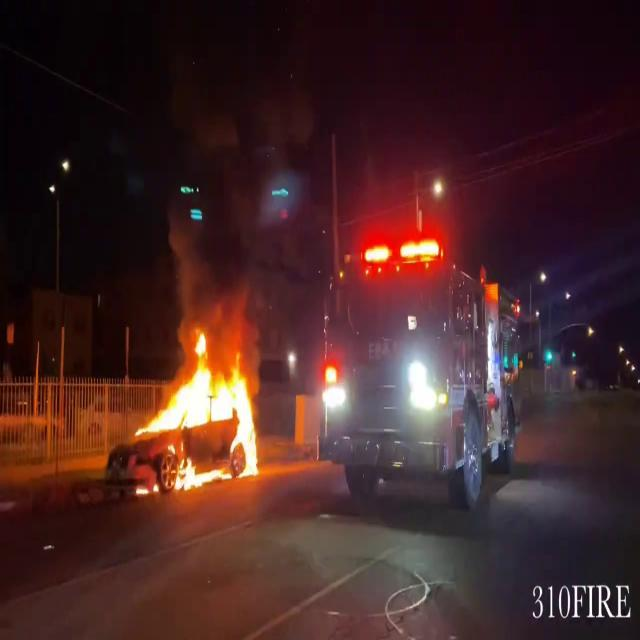Fire: (140, 330, 266, 488)
Smoke: (168, 30, 288, 338)
